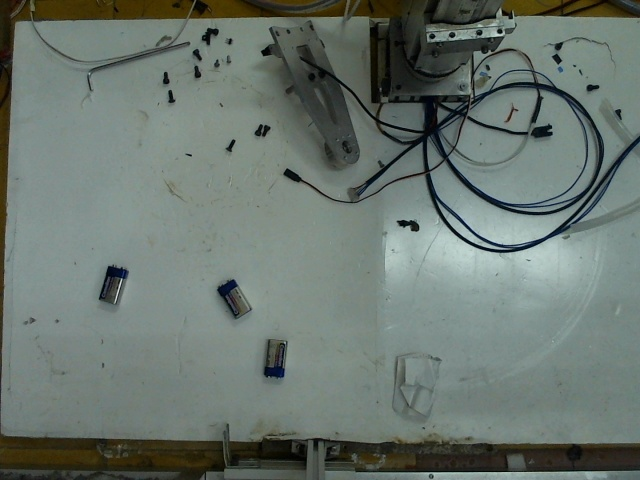battery: (251, 337, 300, 381), (211, 277, 254, 323), (92, 261, 129, 303)
